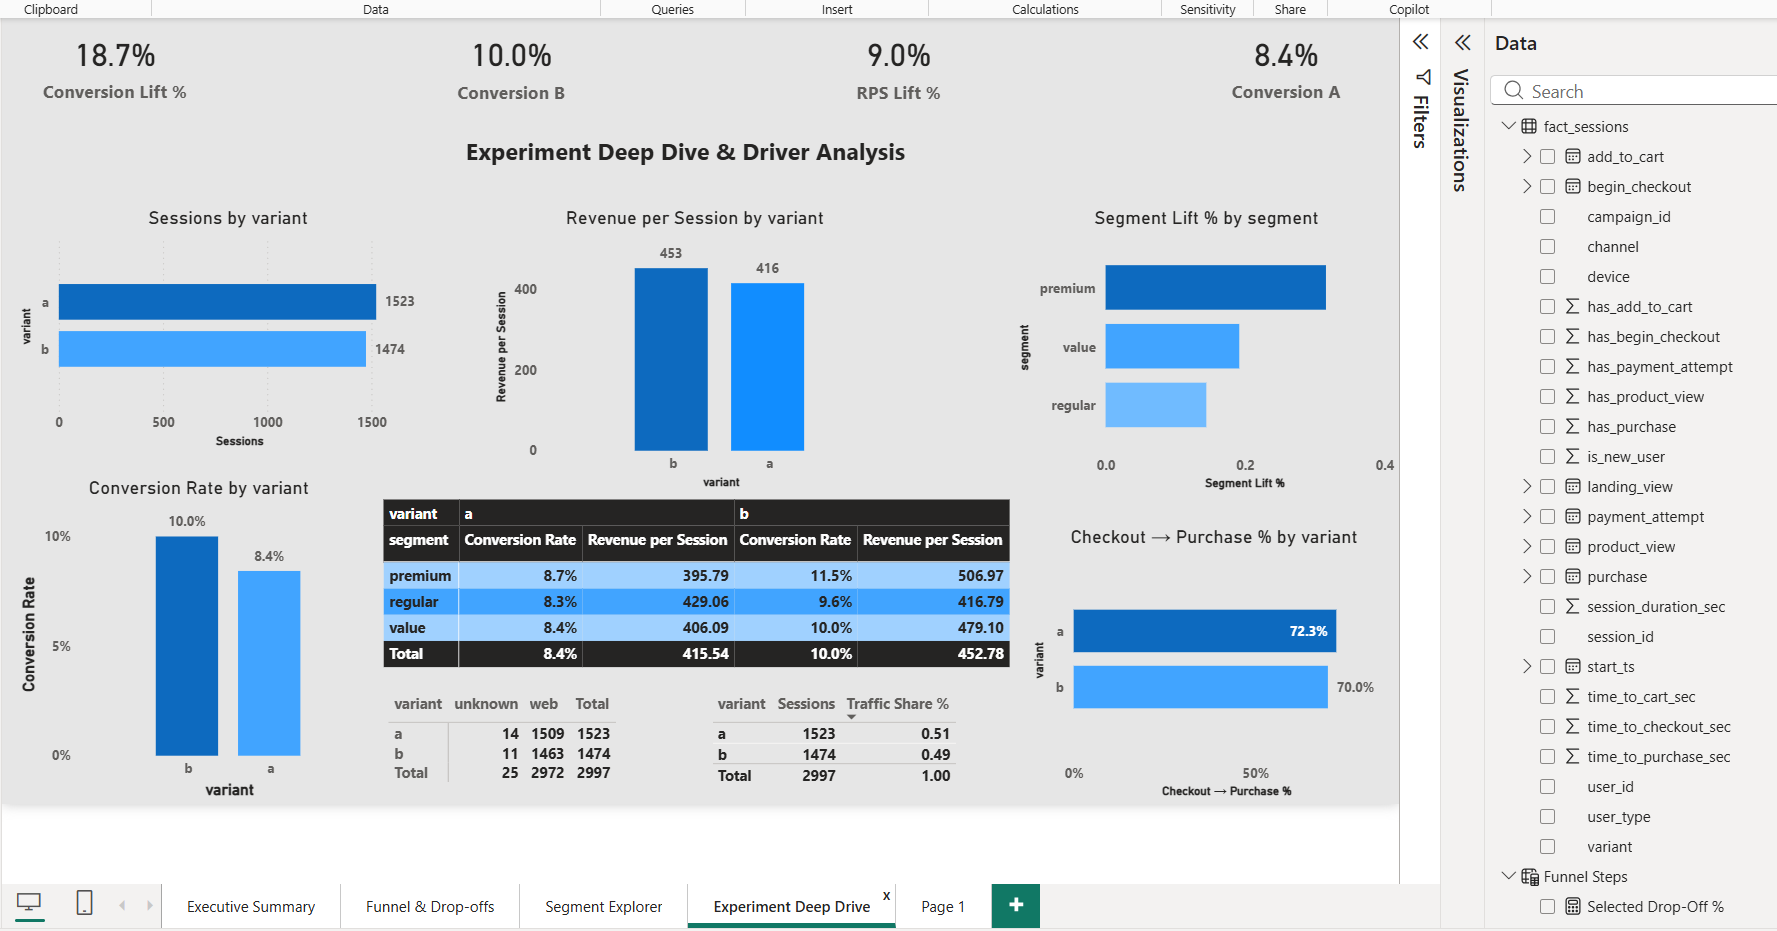

Layout of this report page (visuals, bound fields, positions):
{"tool":"powerbi","page":{"name":"Experiment Deep Drive","canvas":[1280,720],"ordinal":3},"visuals":[{"type":"card","fields":{"Values":["measures_.Conversion Lift %"]},"box":[0,0,207.6,85.8],"z":0},{"type":"card","fields":{"Values":["measures_.RPS Lift %"]},"box":[718.4,1.2,207.6,84.5],"z":1},{"type":"clusteredColumnChart","fields":{"Category":["fact_sessions.variant"],"Y":["measures_.Conversion Rate"]},"box":[11.2,420.1,338.1,299.6],"z":4},{"type":"clusteredColumnChart","fields":{"Category":["fact_sessions.variant"],"Y":["measures_.Revenue per Session"]},"box":[446.2,172.8,376.6,263.5],"z":5},{"type":"pivotTable","fields":{"Rows":["dim_users_enriched.segment"],"Columns":["fact_sessions.variant"],"Values":["measures_.Conversion Rate","measures_.Revenue per Session"]},"box":[344.3,436.3,590.4,176.5],"z":6},{"type":"barChart","fields":{"Category":["dim_users_enriched.segment"],"Y":["measures_.Segment Lift %"]},"box":[926,172.8,354.2,264.8],"z":7},{"type":"card","fields":{"Values":["measures_.Conversion A"]},"box":[1072.7,0,207.6,85.8],"z":8},{"type":"card","fields":{"Values":["measures_.Conversion B"]},"box":[362.9,1.2,207.6,84.5],"z":9},{"type":"barChart","fields":{"Category":["fact_sessions.variant"],"Y":["measures_.Sessions"]},"box":[11.2,172.8,391.5,226.2],"z":10},{"type":"tableEx","fields":{"Values":["fact_sessions.variant","measures_.Sessions","measures_.Traffic Share %"]},"box":[645.1,614,280.9,105.7],"z":11},{"type":"pivotTable","fields":{"Rows":["fact_sessions.variant"],"Columns":["fact_sessions.device"],"Values":["measures_.Sessions"]},"box":[349.3,614,259.8,105.7],"z":12},{"type":"barChart","fields":{"Category":["fact_sessions.variant"],"Y":["measures_.Checkout → Purchase %"]},"box":[939.7,463.6,340.6,256.1],"z":13},{"type":"textbox","box":[207.6,101.9,837.8,48.5],"z":14}]}

Visuals, with their boxes on the page's 1280x720 design canvas (x1, y1, x2, y2). These are canvas units, not pixel positions in the 1777x931 screenshot, which may show the page scaled, cropped or inside an application window:
card - measures_.Conversion Lift %: x1=0, y1=0, x2=208, y2=86
card - measures_.RPS Lift %: x1=718, y1=1, x2=926, y2=86
clusteredColumnChart - fact_sessions.variant x measures_.Conversion Rate: x1=11, y1=420, x2=349, y2=720
clusteredColumnChart - fact_sessions.variant x measures_.Revenue per Session: x1=446, y1=173, x2=823, y2=436
pivotTable - dim_users_enriched.segment x fact_sessions.variant: x1=344, y1=436, x2=935, y2=613
barChart - dim_users_enriched.segment x measures_.Segment Lift %: x1=926, y1=173, x2=1280, y2=438
card - measures_.Conversion A: x1=1073, y1=0, x2=1280, y2=86
card - measures_.Conversion B: x1=363, y1=1, x2=570, y2=86
barChart - fact_sessions.variant x measures_.Sessions: x1=11, y1=173, x2=403, y2=399
tableEx - fact_sessions.variant x measures_.Sessions: x1=645, y1=614, x2=926, y2=720
pivotTable - fact_sessions.variant x fact_sessions.device: x1=349, y1=614, x2=609, y2=720
barChart - fact_sessions.variant x measures_.Checkout → Purchase %: x1=940, y1=464, x2=1280, y2=720
textbox: x1=208, y1=102, x2=1045, y2=150
